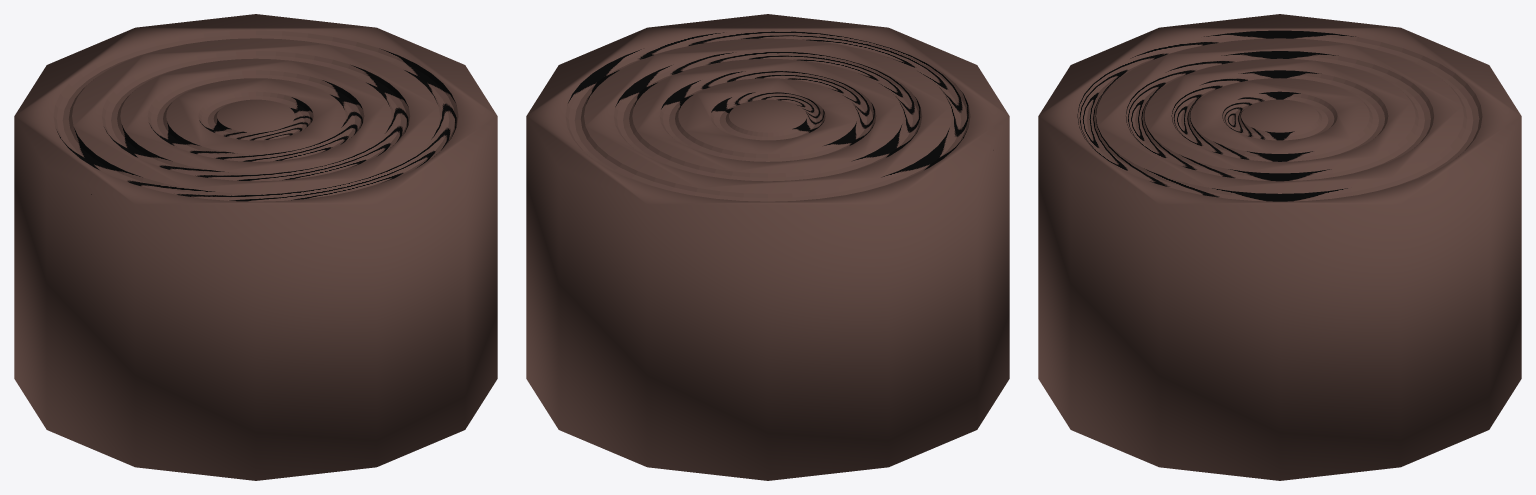
File: pieces.glb
3 views of the same model, side by side, from view 1: azimuth 30°, elevation 25°; view 2: azimuth 150°, elevation 25°; view 3: azimuth 270°, elevation 25° (orthographic).
Visible parts, largest first — view 1: Cylinder; view 2: Cylinder; view 3: Cylinder.
Part boxes in pixels (x1=…): Cylinder: x1=14, y1=14, x2=497, y2=480; Cylinder: x1=526, y1=14, x2=1009, y2=480; Cylinder: x1=1038, y1=14, x2=1521, y2=480.
Size of the model in its own units: 2 by 1.2 by 2.
1 material, 1 textured.
